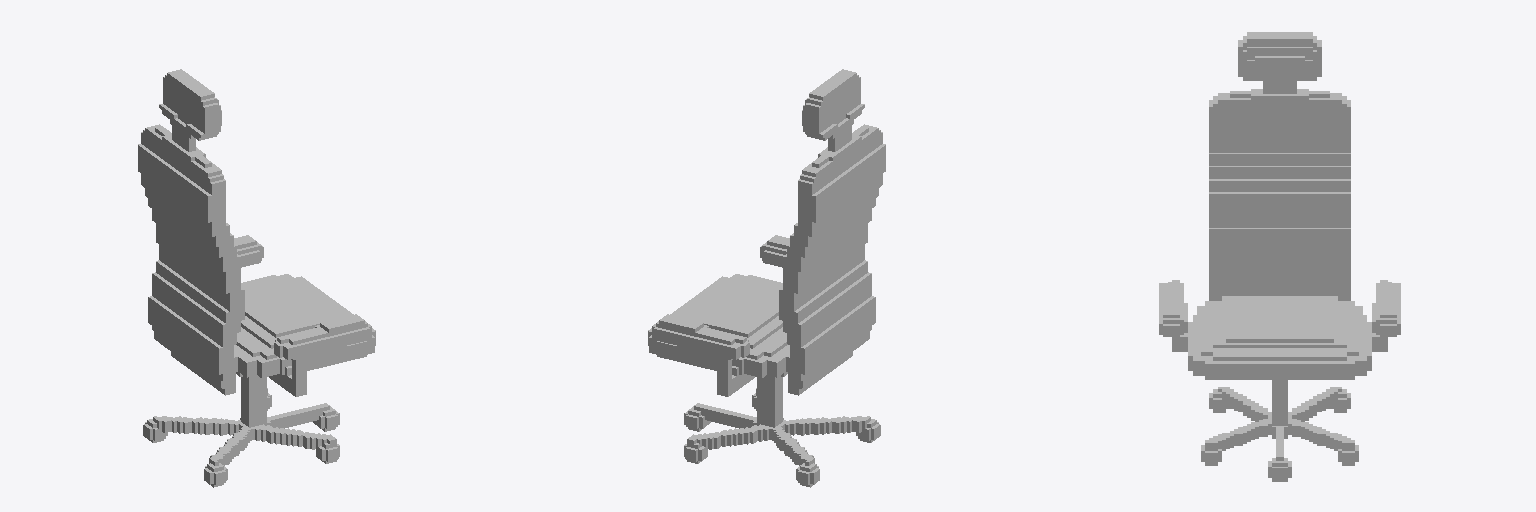
The model's file is chair.obj.
The picture shows the model from 3 angles: view 1: azimuth 30°, elevation 25°; view 2: azimuth 150°, elevation 25°; view 3: azimuth 270°, elevation 25°; orthographic projection.
Size of the model in its own units: 46 by 100 by 58.